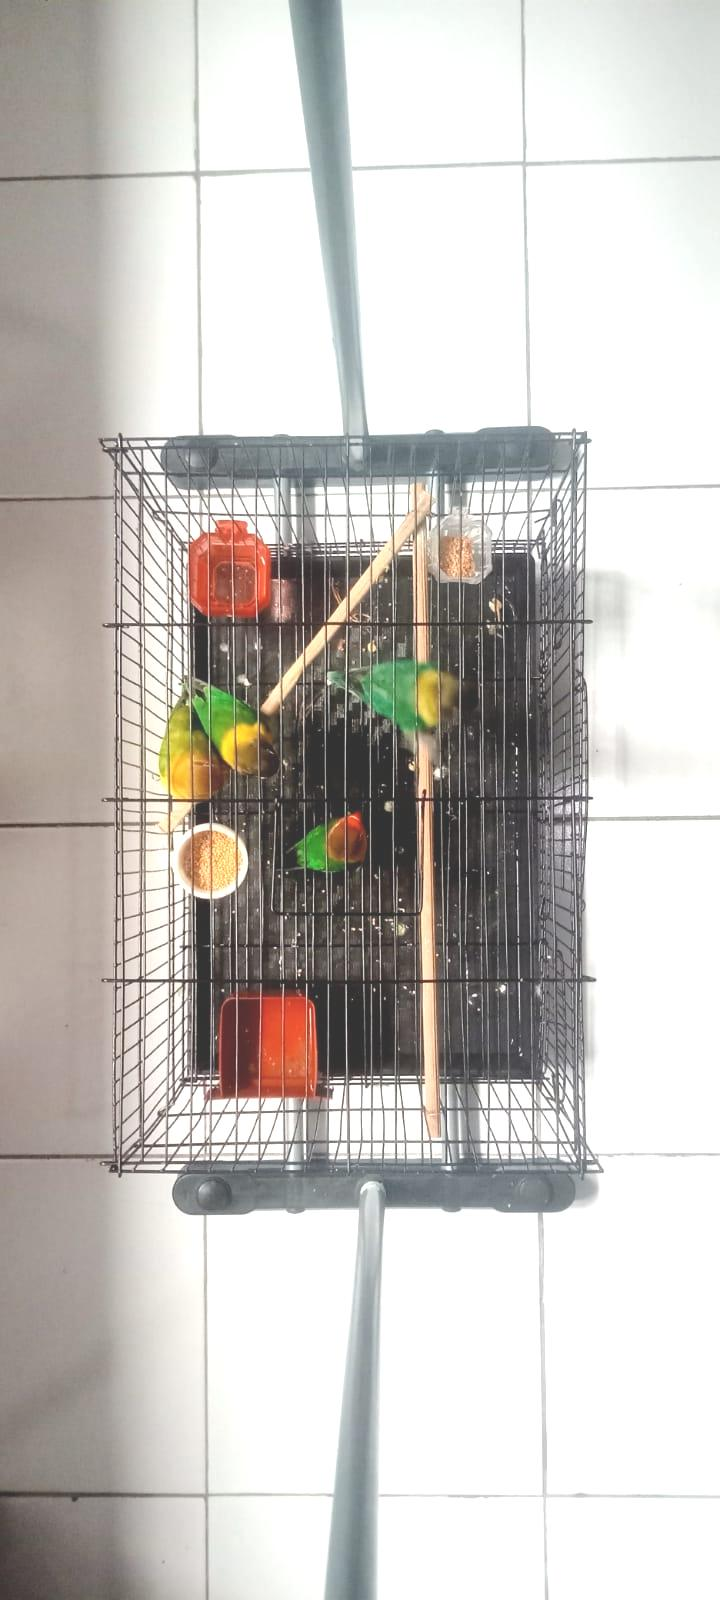LoveBird: (325, 659, 480, 733), (182, 677, 281, 779), (158, 687, 227, 802), (276, 810, 367, 872)
